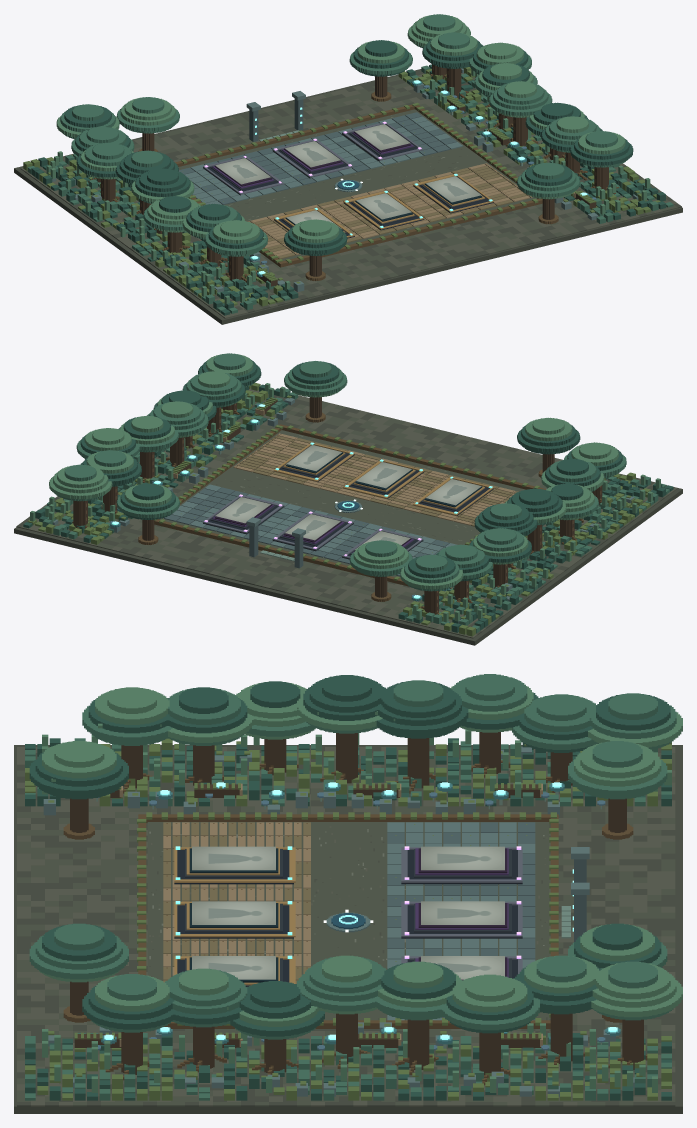
Rendered from 月痕古林-体素战场.glb.
3 renders of one model, top to bottom at view 1: azimuth 30°, elevation 25°; view 2: azimuth 150°, elevation 25°; view 3: azimuth 270°, elevation 25°, orthographic. The views are drawn at different scales.
Parts seen in each view (by area): view 1: 08_Layered_Voxel_Canopies, 01_Ancient_Forest_Floor, 09_Lush_Forest_Sidebanks, 02_Flat_Central_Battle_Glade, 04_Enemy_Sunken_Stonework, 03_Friendly_Wooden_Platform, 07_Trees_and_Exposed_Roots, 05_Glade_Border_and_Entry, 10_Fallen_Trunks_and_Stones, 07_Enemy_Three_Front_Slots, 07_Friendly_Three_Front_Slots, 12_Forest_Threshold_Stones (+6 smaller); view 2: 08_Layered_Voxel_Canopies, 01_Ancient_Forest_Floor, 09_Lush_Forest_Sidebanks, 02_Flat_Central_Battle_Glade, 03_Friendly_Wooden_Platform, 04_Enemy_Sunken_Stonework, 07_Trees_and_Exposed_Roots, 05_Glade_Border_and_Entry, 07_Friendly_Three_Front_Slots, 07_Enemy_Three_Front_Slots, 10_Fallen_Trunks_and_Stones, 12_Forest_Threshold_Stones (+6 smaller); view 3: 08_Layered_Voxel_Canopies, 01_Ancient_Forest_Floor, 09_Lush_Forest_Sidebanks, 02_Flat_Central_Battle_Glade, 07_Trees_and_Exposed_Roots, 04_Enemy_Sunken_Stonework, 03_Friendly_Wooden_Platform, 10_Fallen_Trunks_and_Stones, 05_Glade_Border_and_Entry, 07_Friendly_Three_Front_Slots, 07_Enemy_Three_Front_Slots, 11_Glowing_Mushrooms_and_Lanterns (+12 smaller).
Part boxes in pixels (x1,y1,x2,y2): 08_Layered_Voxel_Canopies: (56, 14, 633, 256); 01_Ancient_Forest_Floor: (14, 69, 682, 324); 09_Lush_Forest_Sidebanks: (23, 64, 673, 315); 02_Flat_Central_Battle_Glade: (178, 109, 537, 260); 04_Enemy_Sunken_Stonework: (179, 112, 462, 204); 03_Friendly_Wooden_Platform: (247, 163, 532, 259); 07_Trees_and_Exposed_Roots: (88, 64, 618, 282); 05_Glade_Border_and_Entry: (175, 102, 542, 267); 10_Fallen_Trunks_and_Stones: (48, 68, 640, 292); 07_Enemy_Three_Front_Slots: (203, 121, 423, 195); 07_Friendly_Three_Front_Slots: (273, 173, 493, 238); 12_Forest_Threshold_Stones: (246, 91, 305, 141); 08_Layered_Voxel_Canopies: (49, 353, 626, 591); 01_Ancient_Forest_Floor: (14, 388, 682, 645); 09_Lush_Forest_Sidebanks: (23, 383, 673, 636); 02_Flat_Central_Battle_Glade: (159, 430, 525, 578); 03_Friendly_Wooden_Platform: (233, 433, 518, 526); 04_Enemy_Sunken_Stonework: (164, 484, 457, 576); 07_Trees_and_Exposed_Roots: (72, 397, 602, 614); 05_Glade_Border_and_Entry: (154, 424, 546, 586); 07_Friendly_Three_Front_Slots: (273, 442, 493, 515); 07_Enemy_Three_Front_Slots: (203, 494, 423, 559); 10_Fallen_Trunks_and_Stones: (53, 395, 634, 623); 12_Forest_Threshold_Stones: (246, 517, 305, 568); 08_Layered_Voxel_Canopies: (29, 674, 682, 1039); 01_Ancient_Forest_Floor: (14, 745, 682, 1113); 09_Lush_Forest_Sidebanks: (25, 729, 671, 1100); 02_Flat_Central_Battle_Glade: (147, 822, 549, 1020); 07_Trees_and_Exposed_Roots: (63, 732, 647, 1085); 04_Enemy_Sunken_Stonework: (387, 822, 535, 1020); 03_Friendly_Wooden_Platform: (163, 822, 310, 983); 10_Fallen_Trunks_and_Stones: (43, 744, 642, 1096); 05_Glade_Border_and_Entry: (137, 812, 558, 1028); 07_Friendly_Three_Front_Slots: (174, 846, 295, 983); 07_Enemy_Three_Front_Slots: (401, 846, 522, 978); 11_Glowing_Mushrooms_and_Lanterns: (96, 782, 620, 1053).
Bounding box in the file's own units: 22 × 2.88 × 17.2.
31 materials, 1 textured.
